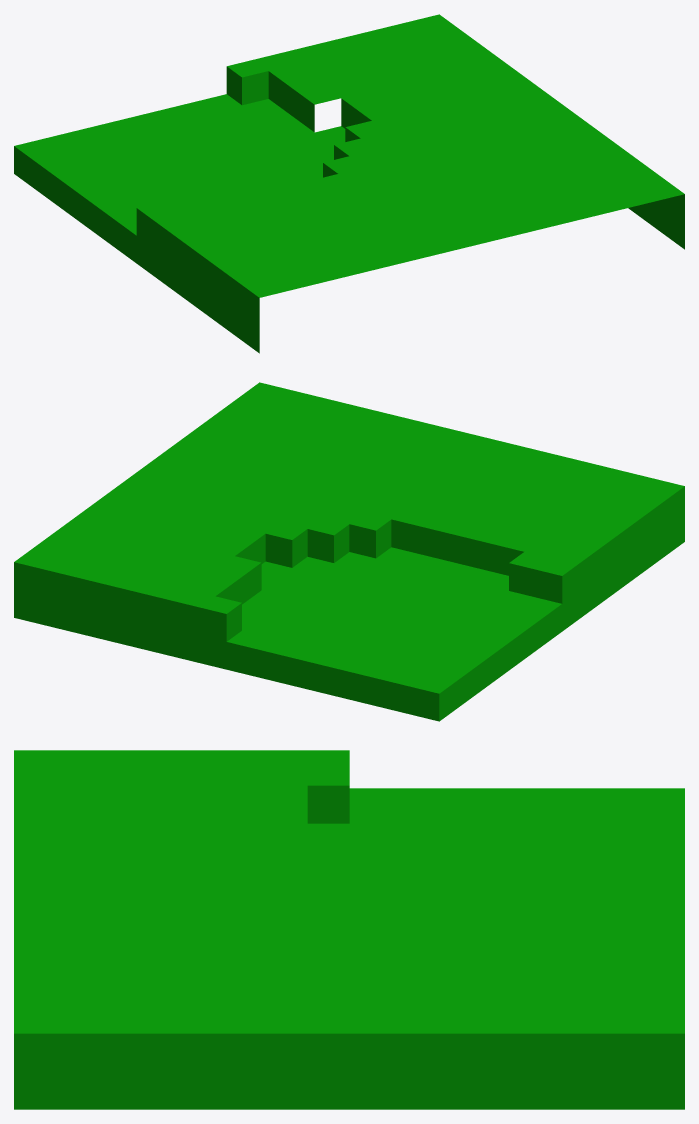
The model's file is Corner8.fbx.
The picture shows the model from 3 angles, top to bottom: view 1: azimuth 30°, elevation 25°; view 2: azimuth 150°, elevation 25°; view 3: azimuth 270°, elevation 25°; orthographic projection. The views are drawn at different scales.
Visible parts, largest first — view 1: Matrix; view 2: Matrix; view 3: Matrix.
Part boxes in pixels (x1=…): Matrix: x1=14, y1=14, x2=684, y2=353; Matrix: x1=14, y1=382, x2=684, y2=721; Matrix: x1=14, y1=750, x2=684, y2=1109.
Bounding box in the file's own units: 16 × 2 × 16.
Materials: 1 (1 with a texture image).
